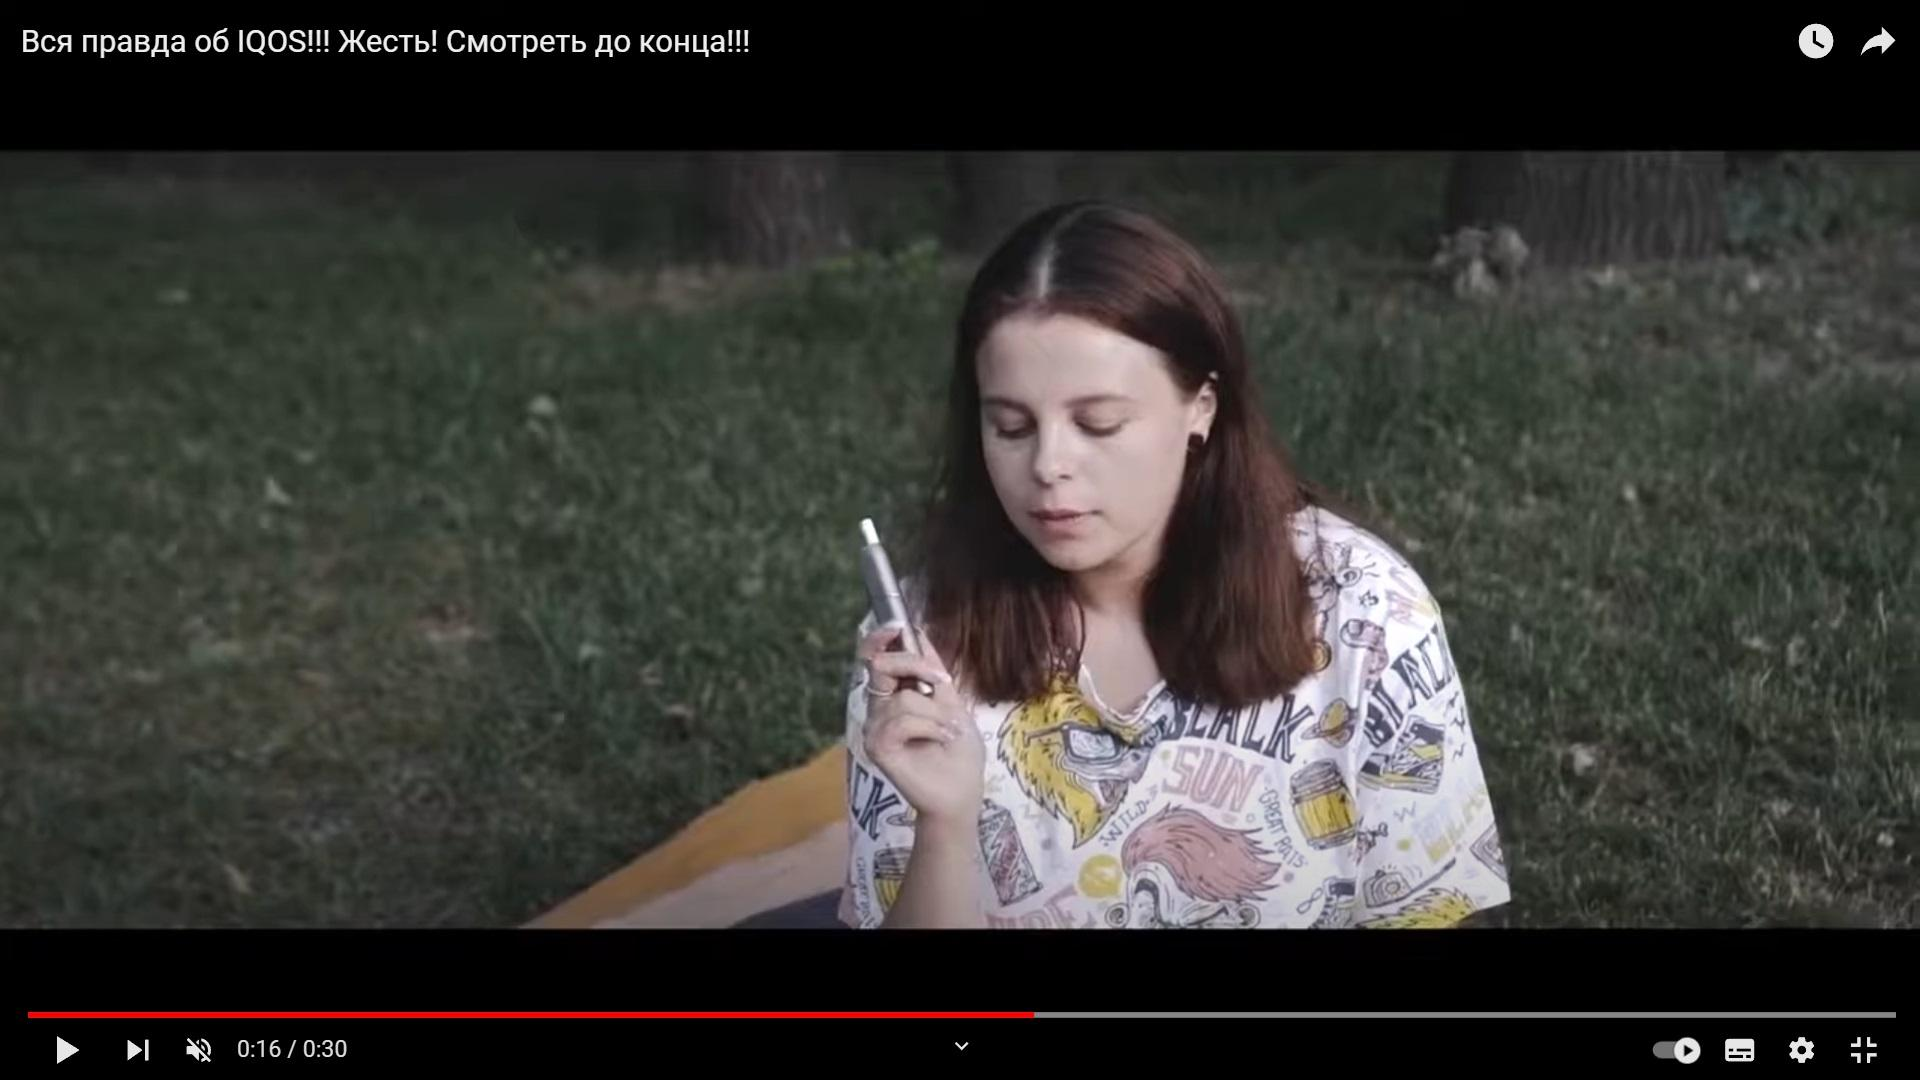iqos: (857, 517, 923, 657)
